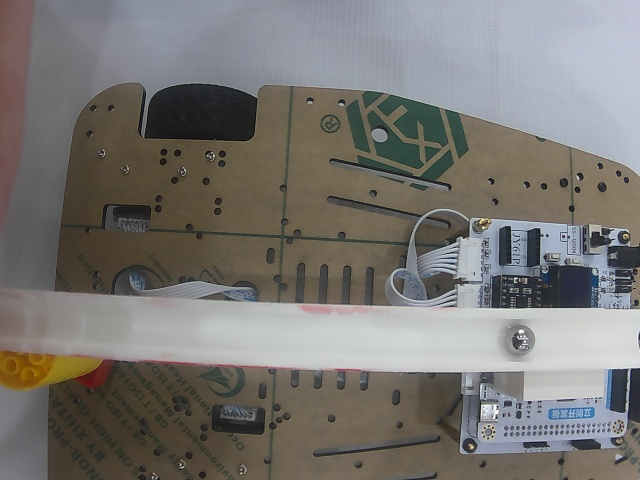steelball: (505, 324, 535, 355)
